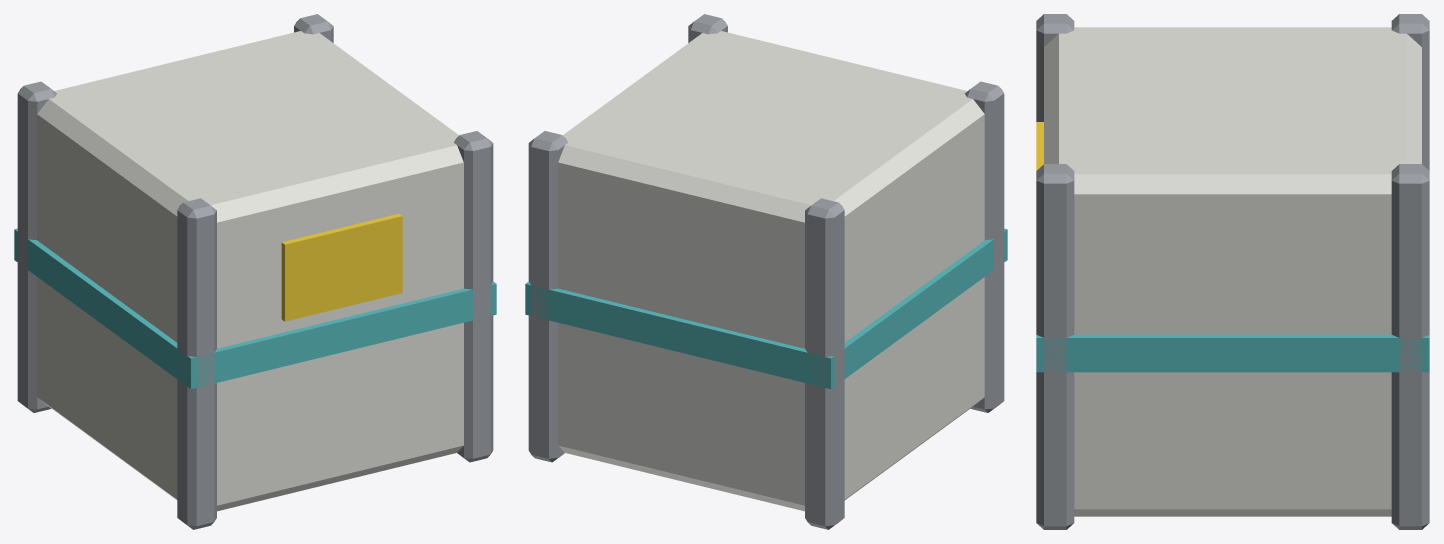
The model's file is crate.glb.
The picture shows the model from 3 angles, left to right: view 1: azimuth 30°, elevation 25°; view 2: azimuth 150°, elevation 25°; view 3: azimuth 270°, elevation 25°; orthographic projection. The views are drawn at different scales.
Parts seen in each view (by area): view 1: crate; view 2: crate; view 3: crate.
Part boxes in pixels (left/top/right/bottom): crate: left=14, top=14, right=496, bottom=529; crate: left=525, top=14, right=1007, bottom=529; crate: left=1036, top=14, right=1429, bottom=529.
Bounding box in the file's own units: 1.04 × 1.04 × 1.04.
